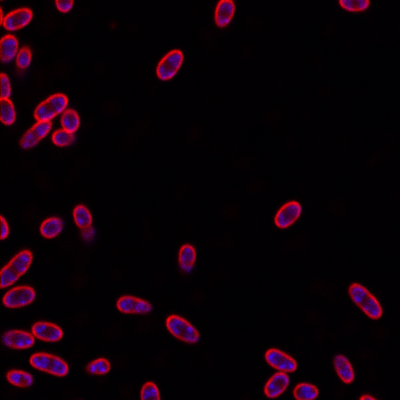MP265: (345, 279, 383, 321), (29, 350, 71, 379), (33, 90, 70, 122), (165, 312, 199, 345), (153, 47, 185, 81), (262, 345, 298, 372), (272, 198, 303, 229), (261, 369, 291, 399), (2, 284, 36, 309), (29, 318, 62, 343), (3, 7, 34, 30), (291, 381, 322, 399)
Oblique: (15, 118, 53, 151), (70, 202, 97, 244), (114, 292, 154, 316), (174, 242, 199, 275), (331, 352, 356, 385), (213, 0, 238, 29), (50, 125, 78, 150), (83, 355, 112, 378), (38, 214, 64, 239), (59, 106, 83, 133), (14, 43, 34, 71)
